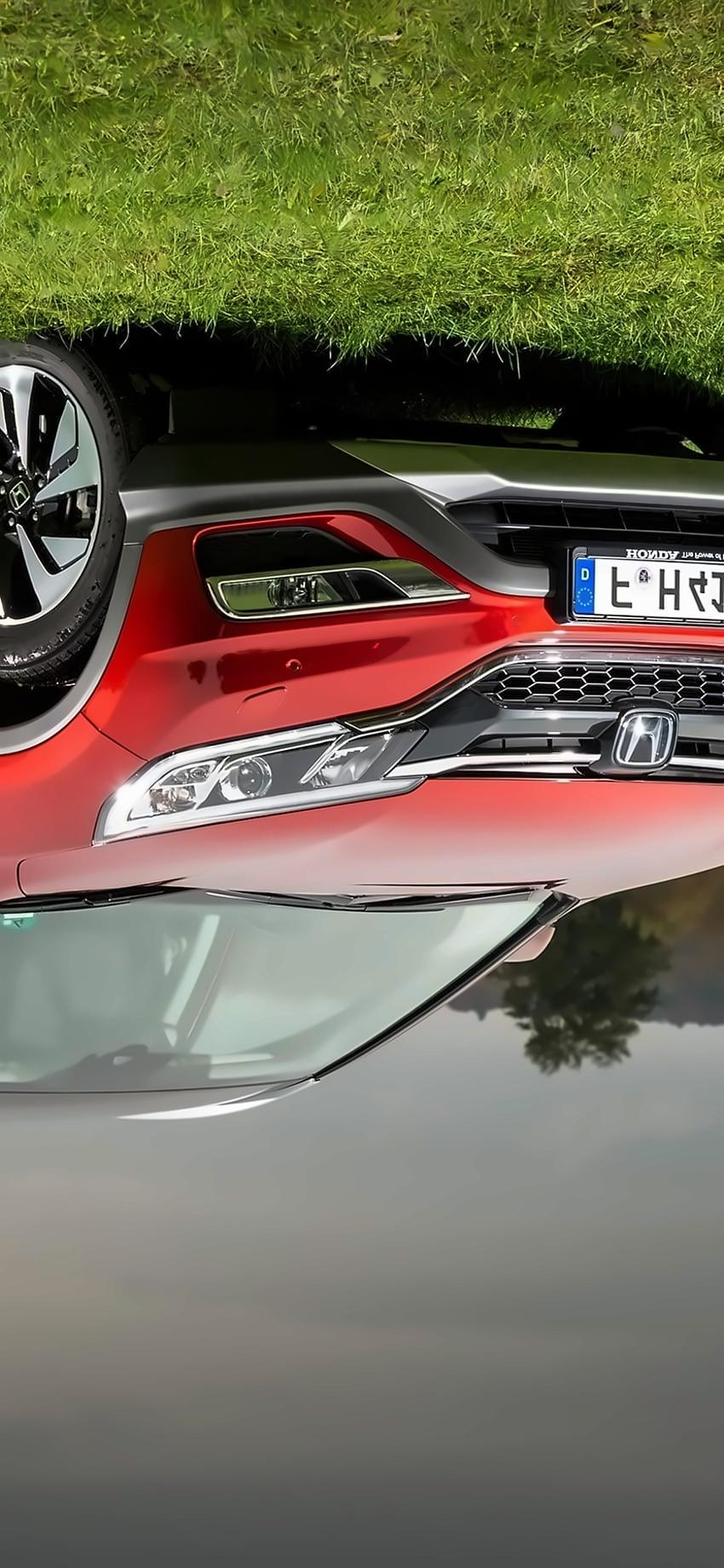Car hood: (0, 713, 724, 922)
Front bumper: (74, 441, 724, 763)
Headlight - -L-: (90, 705, 432, 844)
